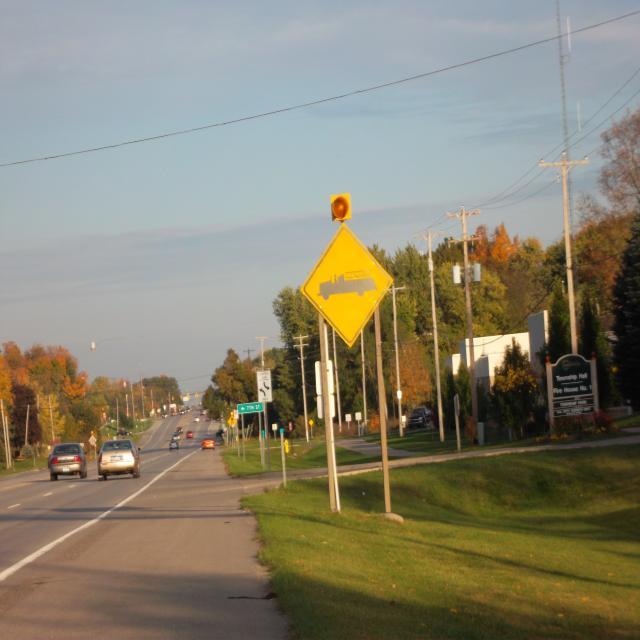regulatory: (257, 370, 272, 403), (233, 410, 239, 419)
warning: (298, 222, 396, 350), (228, 415, 236, 428)
